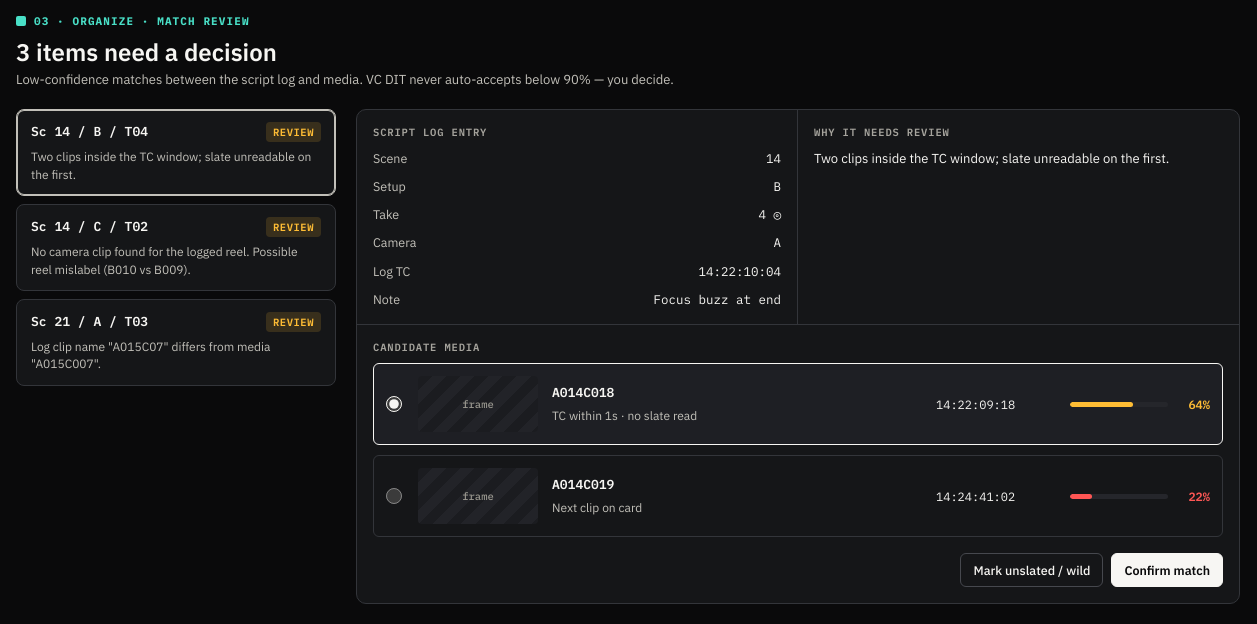
Test: Match Review › shows the outcome of a resolved item instead of the actions
Click the button "Mark unslated / wild": (1032, 570) [960,553,1103,587]
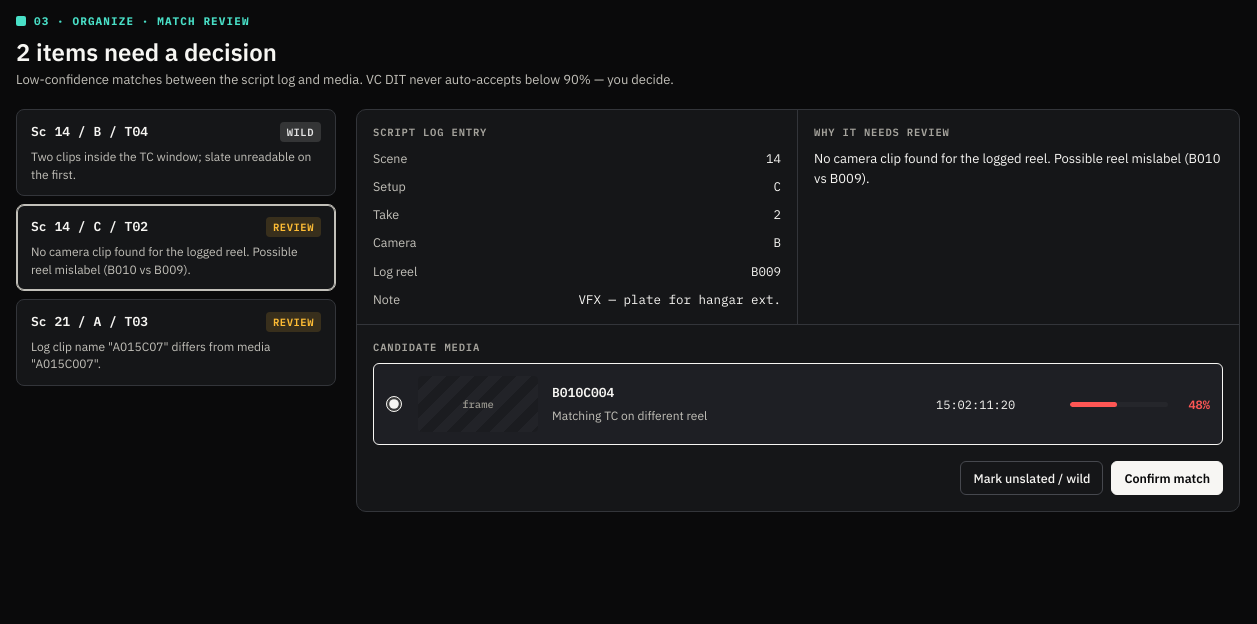
Click the button "Sc 14 / B / T04": (176, 153) [16,110,336,196]
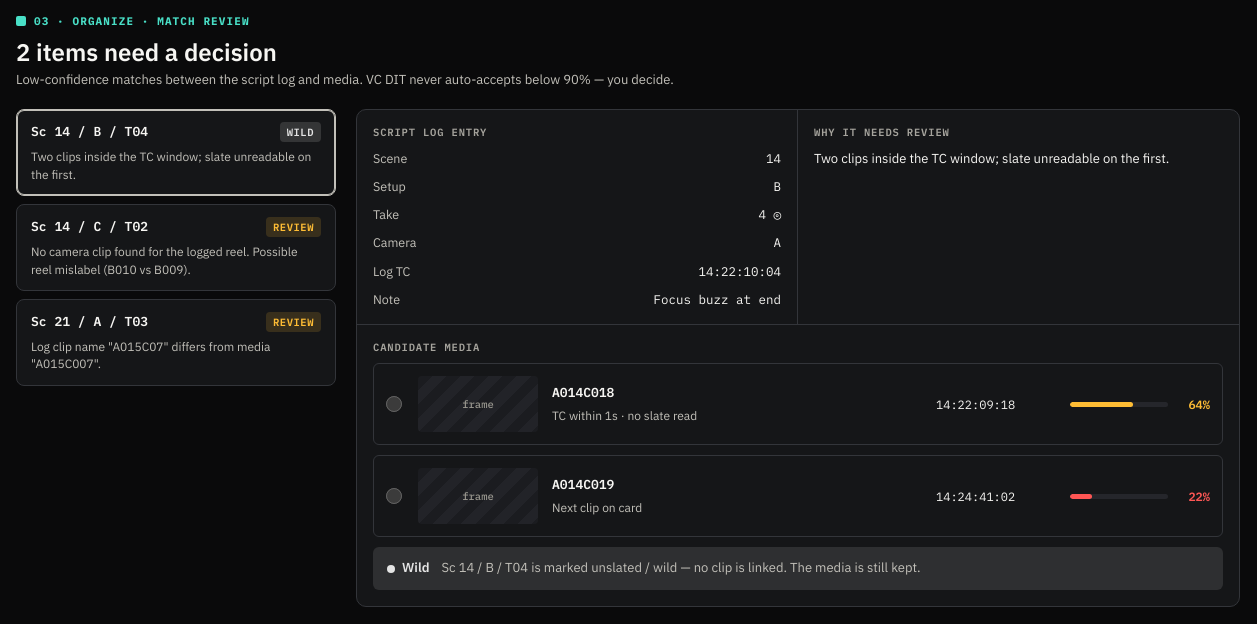
Result: the button "Confirm match" is gone
Result: the text "marked unslated / wild" is shown at [442,559,920,576]
